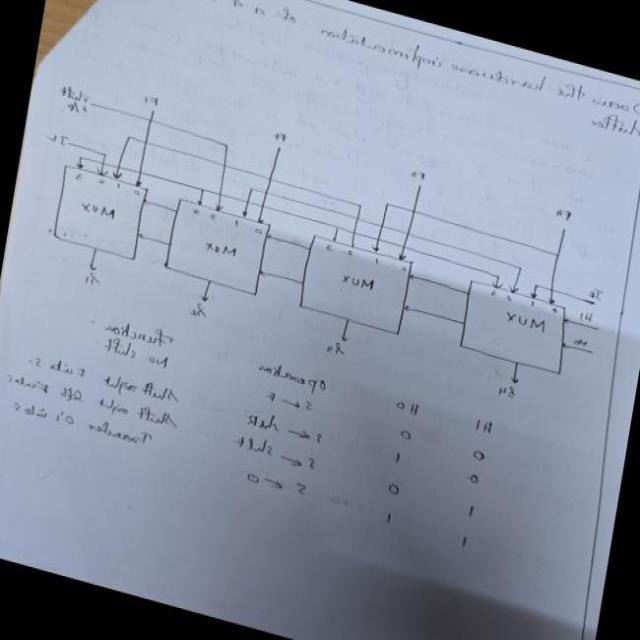Figure Detection - v3 Dataset Version2: (14, 51, 627, 433)
